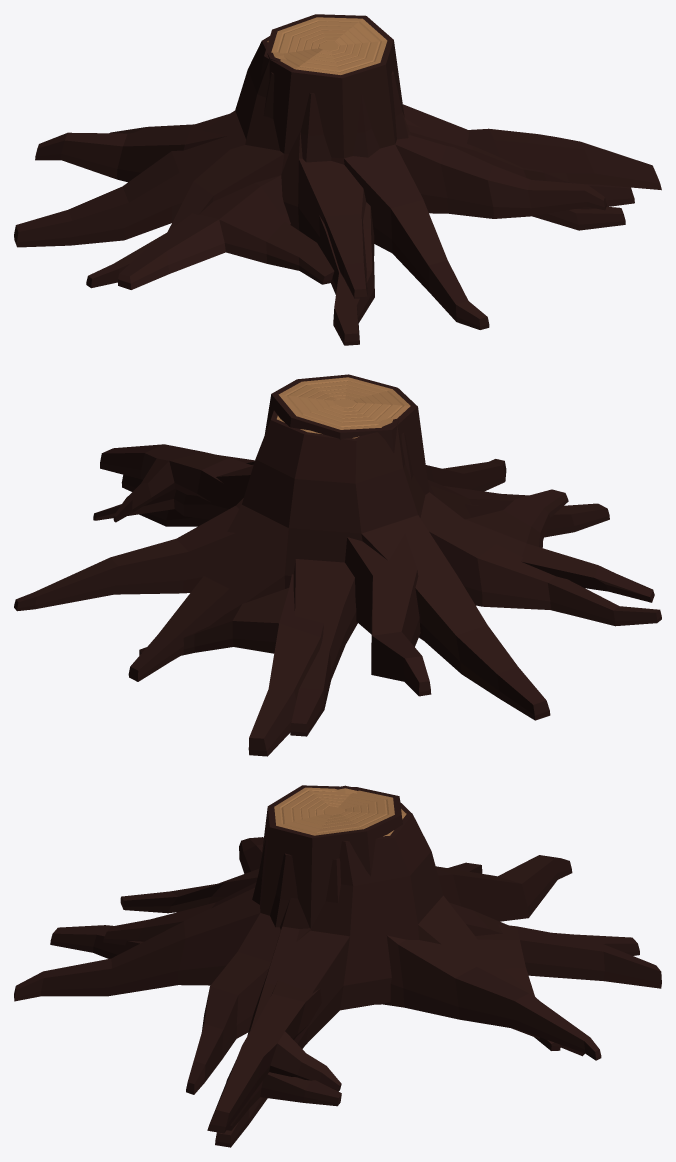
File: stumps.fbx
3 views of the same model, one above another, from view 1: azimuth 30°, elevation 25°; view 2: azimuth 150°, elevation 25°; view 3: azimuth 270°, elevation 25° (orthographic). The views are drawn at different scales.
Visible parts, largest first — view 1: Stump.001, Stump.003, Stump.002, Stump; view 2: Stump.003, Stump.001, Stump.002, Stump; view 3: Stump.001, Stump.003, Stump.002, Stump.
Boxes of the visible parts, bbox=[...] form: Stump.001: bbox=[35, 14, 606, 329]; Stump.003: bbox=[14, 22, 634, 300]; Stump.002: bbox=[109, 124, 661, 289]; Stump: bbox=[263, 71, 625, 345]; Stump.003: bbox=[93, 410, 550, 720]; Stump.001: bbox=[14, 374, 661, 696]; Stump.002: bbox=[100, 444, 654, 756]; Stump: bbox=[139, 432, 609, 736]; Stump.001: bbox=[14, 785, 601, 1094]; Stump.003: bbox=[103, 785, 584, 1130]; Stump.002: bbox=[120, 837, 661, 1133]; Stump: bbox=[50, 838, 639, 1147].
Bounding box in the file's own units: 215 × 77.25 × 208.
